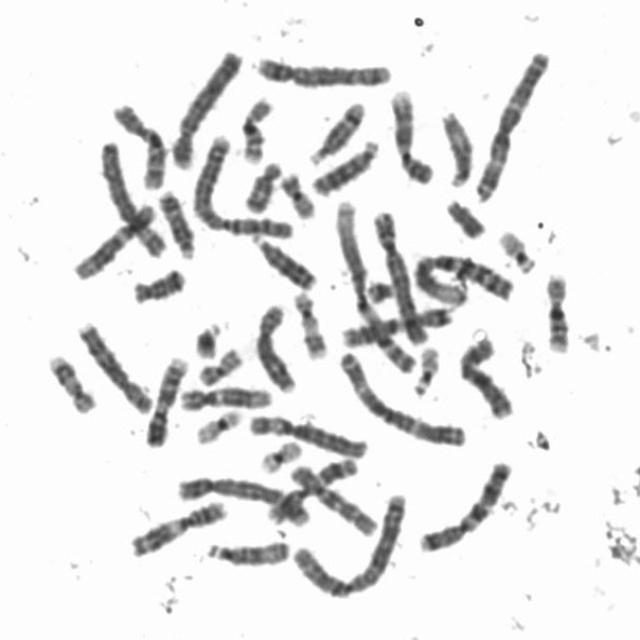A1: (326, 195, 418, 377), (408, 247, 518, 308)
A2: (286, 486, 409, 600), (188, 130, 296, 240)
A3: (334, 344, 469, 448), (470, 43, 554, 204)
B4: (165, 43, 245, 172), (368, 205, 428, 348)
B5: (170, 468, 312, 528), (251, 50, 394, 90)
C10: (283, 458, 379, 540), (106, 96, 169, 191)
C11: (263, 452, 361, 527), (124, 493, 230, 560)
C12: (68, 196, 158, 282), (175, 380, 274, 412)
C6: (94, 135, 168, 260), (242, 408, 370, 460)
C7: (413, 454, 515, 555), (336, 300, 456, 349)
C8: (72, 315, 157, 416), (251, 298, 301, 395)
C9: (386, 83, 436, 186), (140, 350, 190, 449)
D13: (306, 134, 382, 197), (246, 228, 320, 291)
D14: (304, 94, 369, 166), (154, 184, 198, 260)
D15: (435, 106, 477, 189), (200, 533, 292, 569)
E16: (235, 91, 277, 165), (540, 266, 574, 355)
E17: (42, 348, 98, 416), (289, 285, 331, 361)
E18: (238, 154, 285, 215), (127, 262, 189, 306)
F19: (190, 404, 243, 446), (254, 434, 304, 475)
F20: (194, 341, 246, 387), (275, 166, 319, 220)
G21: (190, 315, 224, 361), (362, 273, 398, 305)
G22: (494, 223, 540, 276), (407, 339, 442, 398)
X: (454, 331, 517, 421)
Y: (442, 192, 488, 241)
